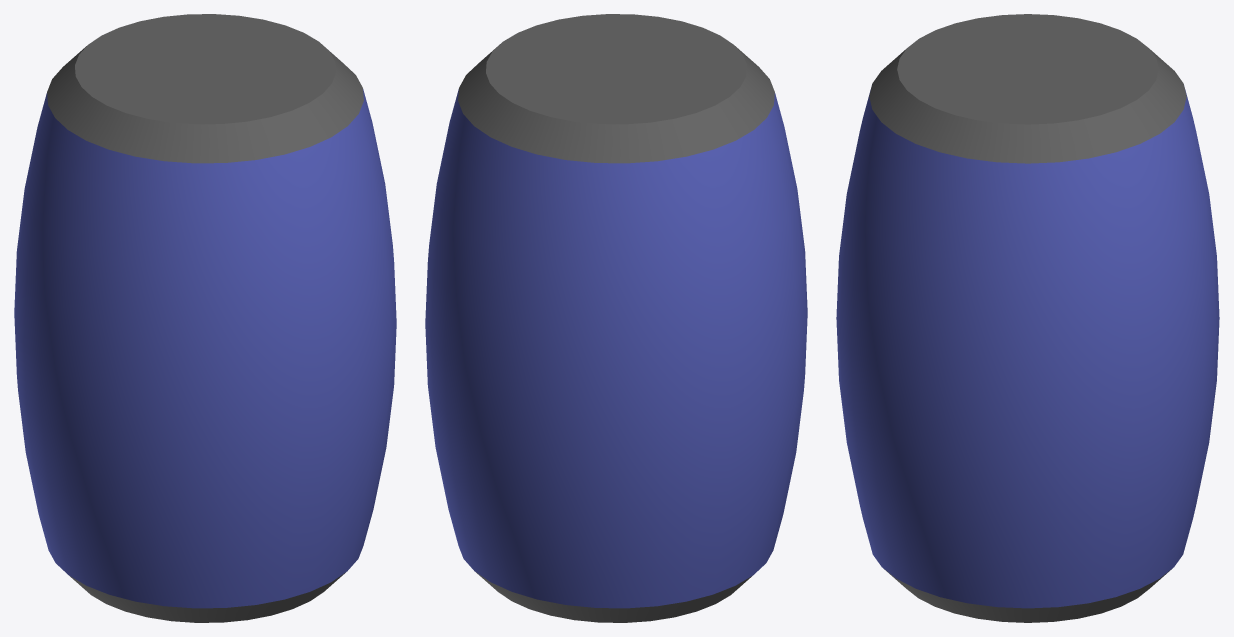
File: 3D_Can_3.FBX
3 renders of one model, left to right at view 1: azimuth 30°, elevation 25°; view 2: azimuth 150°, elevation 25°; view 3: azimuth 270°, elevation 25°, orthographic.
Visible parts, largest first — view 1: 3D_Can_3; view 2: 3D_Can_3; view 3: 3D_Can_3.
Boxes of the visible parts, x1=… form: 3D_Can_3: x1=14, y1=14, x2=396, y2=622; 3D_Can_3: x1=425, y1=14, x2=807, y2=622; 3D_Can_3: x1=836, y1=14, x2=1219, y2=622.
Size of the model in its own units: 148 by 213 by 148.
